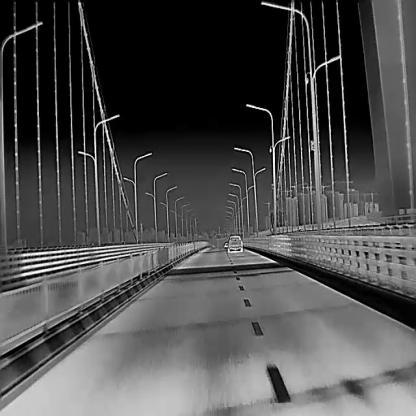car: (227, 235, 242, 252), (223, 241, 227, 247)
